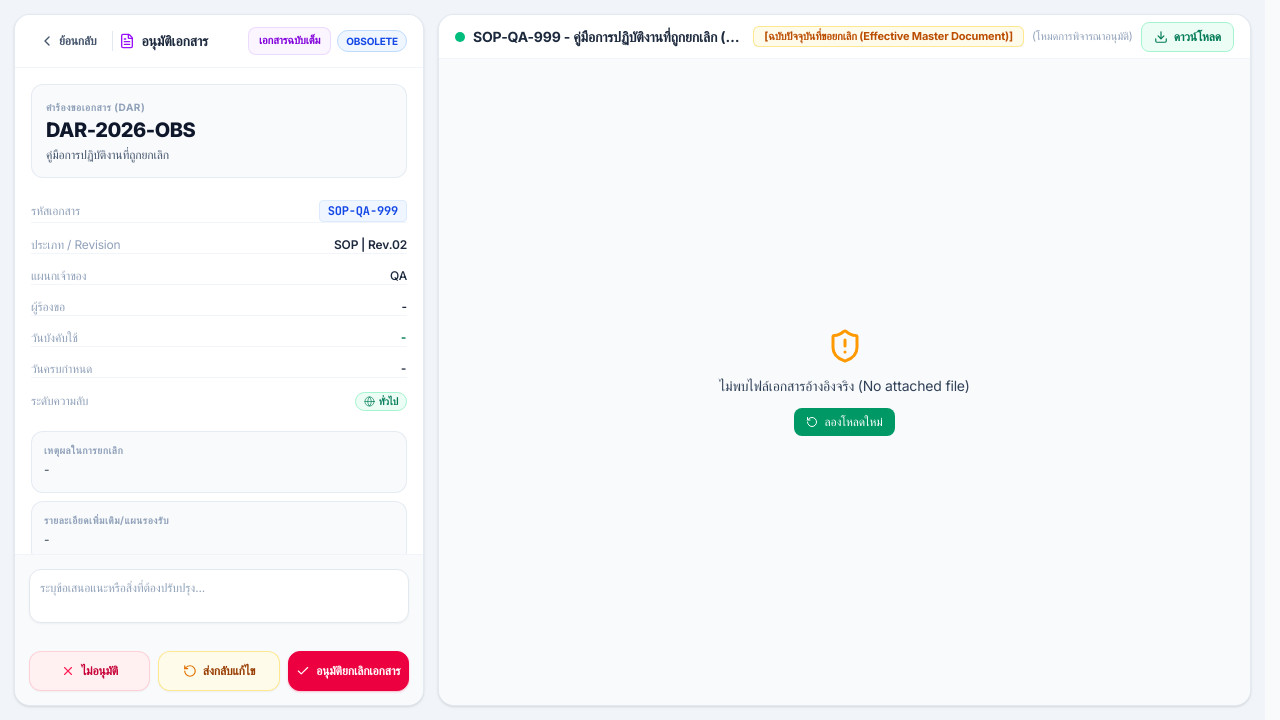
it: ActionConfirmModal Dynamic Presentation Unit Tests › switches button and modal to Obsolete workflow when TaskApprove renders an Obsolete DAR
Click button to open confirmation modal
What coordinates should you click on to do the following:
click the button with aria-label "อนุมัติยกเลิกเอกสาร (Approve Obsolete)"
I would click on:
 (348, 671)
Its box is [288, 651, 409, 691].
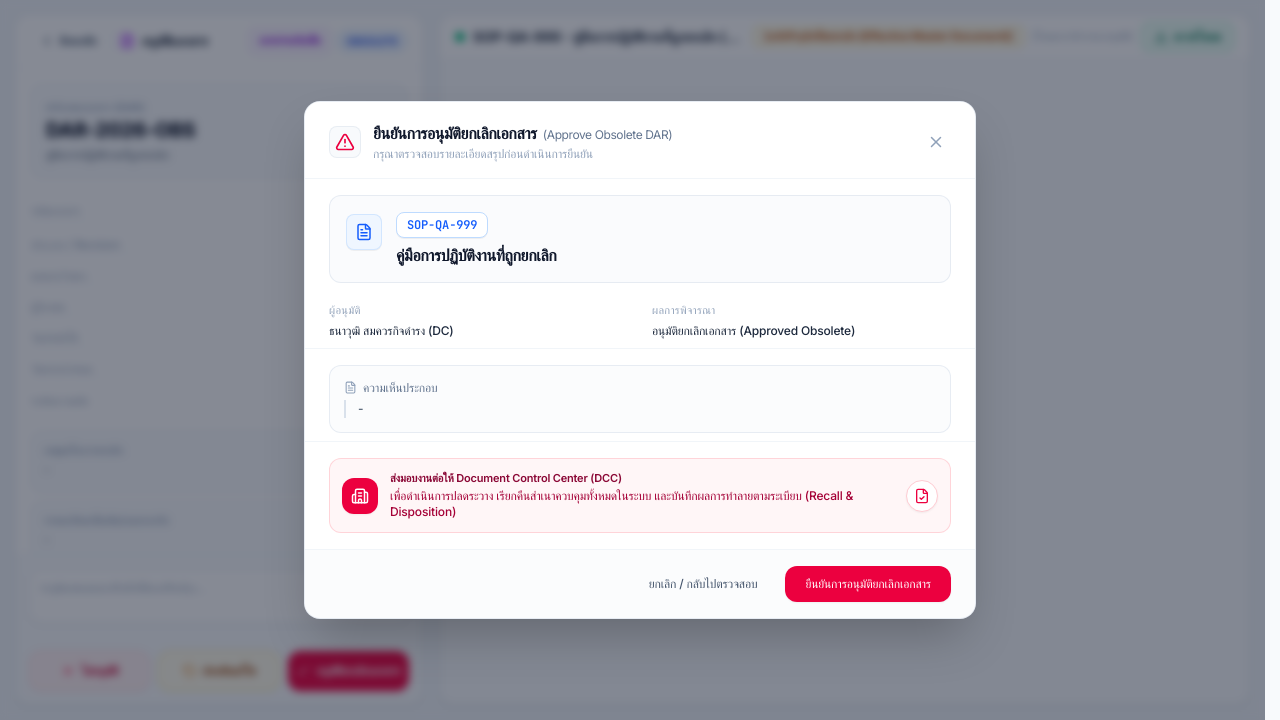
Result: the text "(Approve Obsolete DAR)" is shown at [543, 127, 672, 143]
Result: the text "เพื่อดำเนินการปลดระวาง เรียกคืนสำเนาควบคุมทั้งหมดในระบบ และบันทึกผลการทำลายตามระเบียบ (Recall & Disposition)" is shown at [390, 488, 853, 519]
